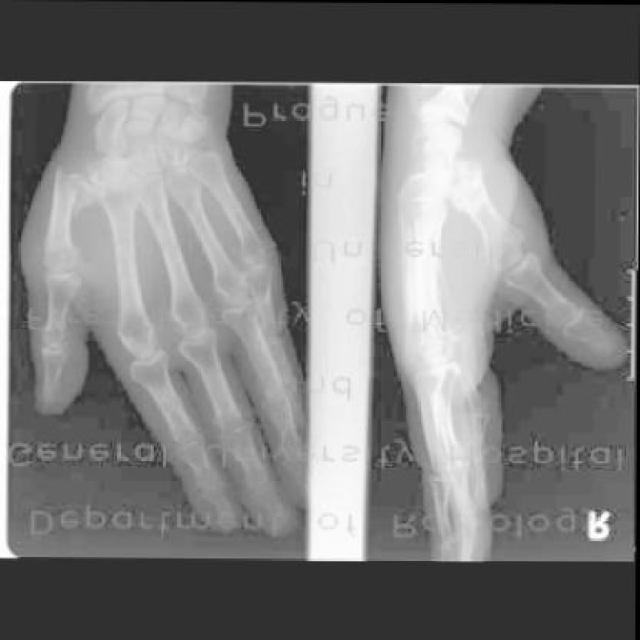Fracture: (443, 155, 496, 228), (45, 172, 102, 222)
